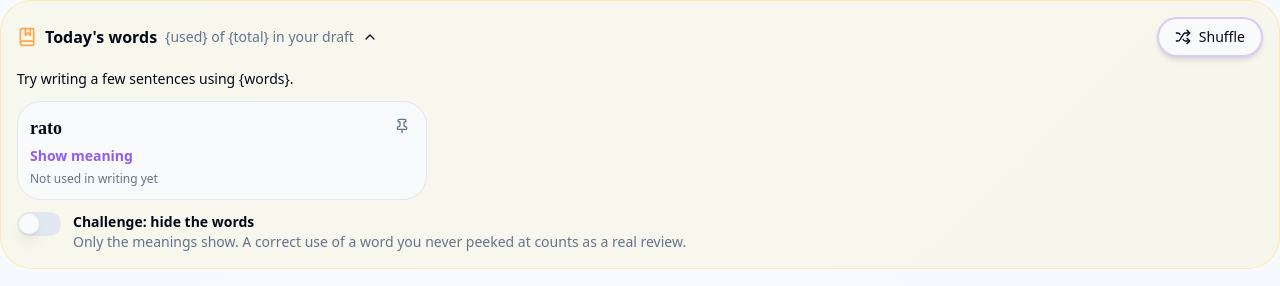
it: WordBankPanel › keeps the meaning behind a tap when the policy says so, and logs the tap
The width and height of the screenshot is (1280, 286).
Click the button "Show meaning" at (81, 156), box x1=30 y1=146 x2=133 y2=166
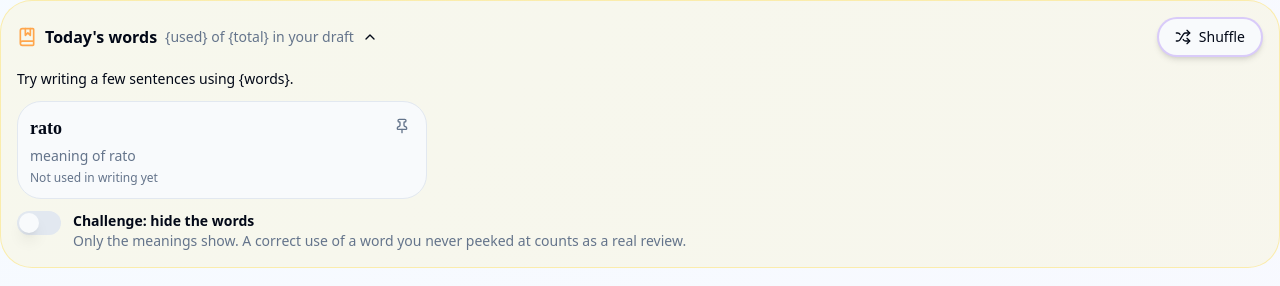
Result: the text with test id "word-bank-hint" reads "meaning of rato" at x1=30 y1=146 x2=136 y2=165
